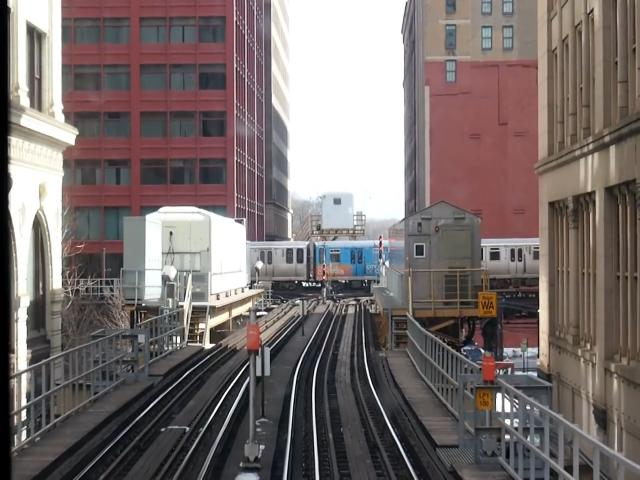signal light: (380, 233, 385, 263), (323, 264, 328, 290)
